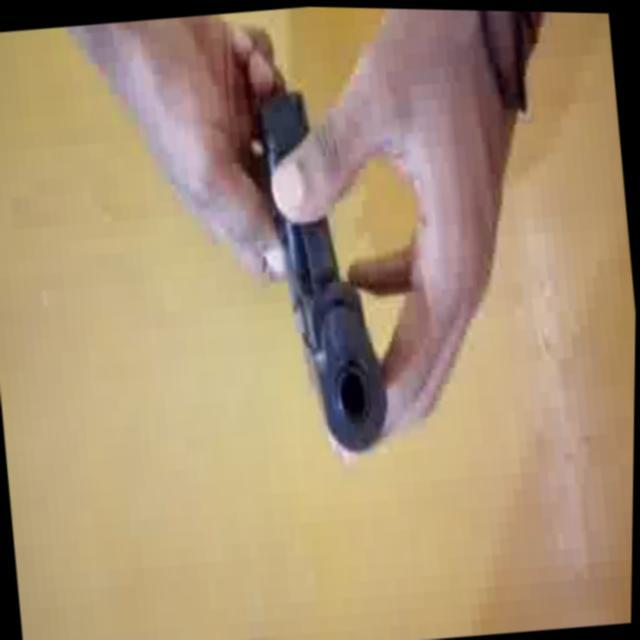weapon: (241, 71, 407, 463)
